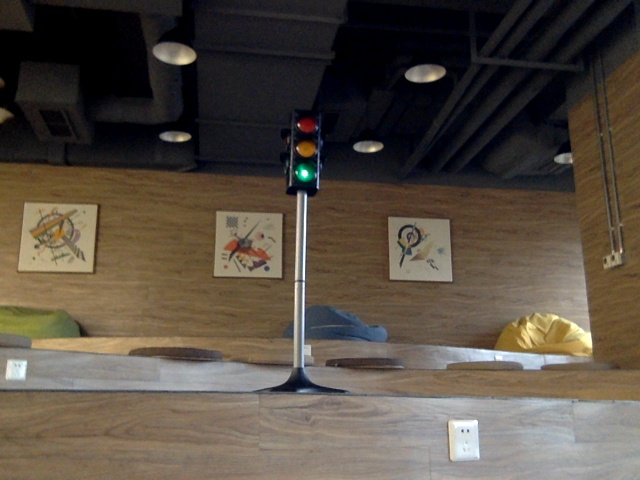green: (291, 117, 315, 182)
